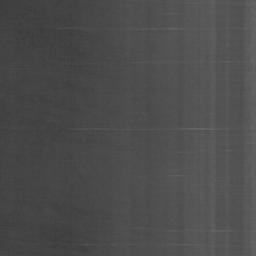Waist folding: (132, 226, 233, 233), (150, 126, 228, 132), (131, 26, 183, 32), (71, 127, 146, 131), (80, 243, 132, 248), (222, 59, 256, 64), (57, 29, 88, 33), (172, 243, 202, 247)
